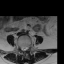CCS_severe_stenosis: (23, 44, 25, 53)
LFS_normal: (27, 43, 29, 51)
LLS_normal: (25, 44, 27, 52)
RFS_normal: (19, 44, 21, 51)
RLS_normal: (21, 44, 23, 52)
